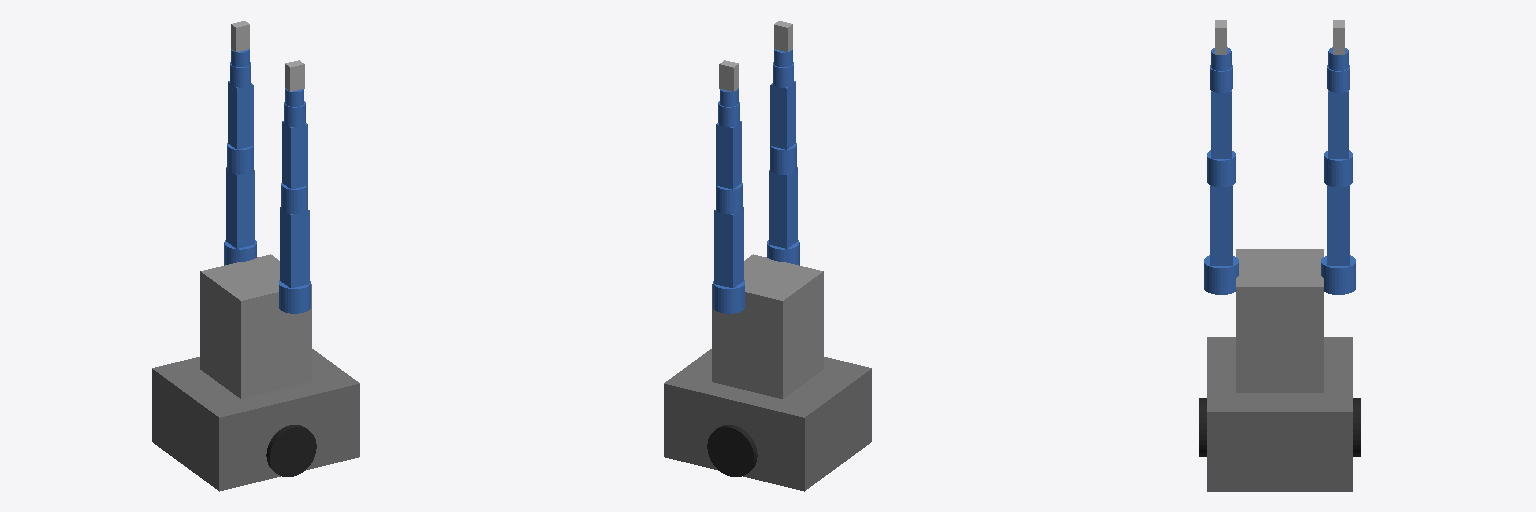
The robot description file, URDF, robot "dual_arm_robot":
<?xml version="1.0"?>
<!--
  Simplified Dual-Arm Mobile Manipulator
  Educational/Research Platform for RL/IL Pick-and-Place Tasks

  Architecture:
  - Mobile base (differential drive, 2 wheels)
  - Torso with vertical prismatic joint
  - Left arm: 7-DOF (shoulder: 3, elbow: 1, wrist: 3)
  - Right arm: 7-DOF (mirrored)
  - Parallel grippers on both arms
-->
<robot name="dual_arm_robot">

  <!-- ============ BASE LINK ============ -->
  <link name="base_link">
    <inertial>
      <origin xyz="0 0 0.15" rpy="0 0 0"/>
      <mass value="50.0"/>
      <inertia ixx="2.0" ixy="0" ixz="0" iyy="2.5" iyz="0" izz="2.0"/>
    </inertial>
    <visual>
      <origin xyz="0 0 0.15" rpy="0 0 0"/>
      <geometry>
        <box size="0.6 0.5 0.3"/>
      </geometry>
      <material name="base_grey">
        <color rgba="0.5 0.5 0.5 1"/>
      </material>
    </visual>
    <collision>
      <origin xyz="0 0 0.15" rpy="0 0 0"/>
      <geometry>
        <box size="0.6 0.5 0.3"/>
      </geometry>
    </collision>
  </link>

  <!-- ============ WHEELS ============ -->
  <joint name="left_wheel_joint" type="continuous">
    <parent link="base_link"/>
    <child link="left_wheel"/>
    <origin xyz="0 0.25 0.1" rpy="-1.5708 0 0"/>
    <axis xyz="0 0 1"/>
  </joint>

  <link name="left_wheel">
    <inertial>
      <mass value="2.0"/>
      <inertia ixx="0.01" ixy="0" ixz="0" iyy="0.01" iyz="0" izz="0.02"/>
    </inertial>
    <visual>
      <geometry>
        <cylinder radius="0.1" length="0.05"/>
      </geometry>
      <material name="wheel_black">
        <color rgba="0.2 0.2 0.2 1"/>
      </material>
    </visual>
    <collision>
      <geometry>
        <cylinder radius="0.1" length="0.05"/>
      </geometry>
    </collision>
  </link>

  <joint name="right_wheel_joint" type="continuous">
    <parent link="base_link"/>
    <child link="right_wheel"/>
    <origin xyz="0 -0.25 0.1" rpy="-1.5708 0 0"/>
    <axis xyz="0 0 1"/>
  </joint>

  <link name="right_wheel">
    <inertial>
      <mass value="2.0"/>
      <inertia ixx="0.01" ixy="0" ixz="0" iyy="0.01" iyz="0" izz="0.02"/>
    </inertial>
    <visual>
      <geometry>
        <cylinder radius="0.1" length="0.05"/>
      </geometry>
      <material name="wheel_black">
        <color rgba="0.2 0.2 0.2 1"/>
      </material>
    </visual>
    <collision>
      <geometry>
        <cylinder radius="0.1" length="0.05"/>
      </geometry>
    </collision>
  </link>

  <!-- ============ TORSO (Prismatic Lift) ============ -->
  <joint name="torso_lift_joint" type="prismatic">
    <parent link="base_link"/>
    <child link="torso_link"/>
    <origin xyz="0 0 0.3" rpy="0 0 0"/>
    <axis xyz="0 0 1"/>
    <limit lower="0.0" upper="0.3" effort="100" velocity="0.1"/>
    <dynamics damping="2.0" friction="0.2"/>
  </joint>

  <link name="torso_link">
    <inertial>
      <origin xyz="0 0 0.2" rpy="0 0 0"/>
      <mass value="15.0"/>
      <inertia ixx="0.5" ixy="0" ixz="0" iyy="0.5" iyz="0" izz="0.2"/>
    </inertial>
    <visual>
      <origin xyz="0 0 0.2" rpy="0 0 0"/>
      <geometry>
        <box size="0.3 0.3 0.4"/>
      </geometry>
      <material name="torso_grey">
        <color rgba="0.6 0.6 0.6 1"/>
      </material>
    </visual>
    <collision>
      <origin xyz="0 0 0.2" rpy="0 0 0"/>
      <geometry>
        <box size="0.3 0.3 0.4"/>
      </geometry>
    </collision>
  </link>

  <!-- ============ LEFT ARM (7-DOF) ============ -->
  <!-- Shoulder Pan -->
  <joint name="left_joint1" type="revolute">
    <parent link="torso_link"/>
    <child link="left_link1"/>
    <origin xyz="0.05 0.2 0.35" rpy="0 0 0"/>
    <axis xyz="0 0 1"/>
    <limit lower="-2.8" upper="2.8" effort="50" velocity="1.5"/>
    <dynamics damping="1.0" friction="0.1"/>
  </joint>

  <link name="left_link1">
    <inertial>
      <mass value="3.0"/>
      <inertia ixx="0.01" ixy="0" ixz="0" iyy="0.01" iyz="0" izz="0.01"/>
    </inertial>
    <visual>
      <origin xyz="0 0 0.05" rpy="0 0 0"/>
      <geometry>
        <cylinder radius="0.06" length="0.1"/>
      </geometry>
      <material name="arm_blue">
        <color rgba="0.3 0.5 0.8 1"/>
      </material>
    </visual>
    <collision>
      <origin xyz="0 0 0.05" rpy="0 0 0"/>
      <geometry>
        <cylinder radius="0.06" length="0.1"/>
      </geometry>
    </collision>
  </link>

  <!-- Shoulder Lift -->
  <joint name="left_joint2" type="revolute">
    <parent link="left_link1"/>
    <child link="left_link2"/>
    <origin xyz="0 0 0.1" rpy="0 0 0"/>
    <axis xyz="0 1 0"/>
    <limit lower="-1.5" upper="1.5" effort="50" velocity="1.5"/>
    <dynamics damping="1.0" friction="0.1"/>
  </joint>

  <link name="left_link2">
    <inertial>
      <origin xyz="0 0 0.15" rpy="0 0 0"/>
      <mass value="2.5"/>
      <inertia ixx="0.05" ixy="0" ixz="0" iyy="0.05" iyz="0" izz="0.005"/>
    </inertial>
    <visual>
      <origin xyz="0 0 0.15" rpy="0 0 0"/>
      <geometry>
        <box size="0.08 0.08 0.3"/>
      </geometry>
      <material name="arm_blue"/>
    </visual>
    <collision>
      <origin xyz="0 0 0.15" rpy="0 0 0"/>
      <geometry>
        <box size="0.08 0.08 0.3"/>
      </geometry>
    </collision>
  </link>

  <!-- Shoulder Roll -->
  <joint name="left_joint3" type="revolute">
    <parent link="left_link2"/>
    <child link="left_link3"/>
    <origin xyz="0 0 0.3" rpy="0 0 0"/>
    <axis xyz="1 0 0"/>
    <limit lower="-2.8" upper="2.8" effort="30" velocity="1.5"/>
    <dynamics damping="1.0" friction="0.1"/>
  </joint>

  <link name="left_link3">
    <inertial>
      <mass value="1.5"/>
      <inertia ixx="0.005" ixy="0" ixz="0" iyy="0.005" iyz="0" izz="0.005"/>
    </inertial>
    <visual>
      <origin xyz="0 0 0.05" rpy="0 0 0"/>
      <geometry>
        <cylinder radius="0.05" length="0.1"/>
      </geometry>
      <material name="arm_blue"/>
    </visual>
    <collision>
      <origin xyz="0 0 0.05" rpy="0 0 0"/>
      <geometry>
        <cylinder radius="0.05" length="0.1"/>
      </geometry>
    </collision>
  </link>

  <!-- Elbow -->
  <joint name="left_joint4" type="revolute">
    <parent link="left_link3"/>
    <child link="left_link4"/>
    <origin xyz="0 0 0.1" rpy="0 0 0"/>
    <axis xyz="0 1 0"/>
    <limit lower="-2.5" upper="0" effort="30" velocity="1.5"/>
    <dynamics damping="1.0" friction="0.1"/>
  </joint>

  <link name="left_link4">
    <inertial>
      <origin xyz="0 0 0.125" rpy="0 0 0"/>
      <mass value="2.0"/>
      <inertia ixx="0.03" ixy="0" ixz="0" iyy="0.03" iyz="0" izz="0.003"/>
    </inertial>
    <visual>
      <origin xyz="0 0 0.125" rpy="0 0 0"/>
      <geometry>
        <box size="0.07 0.07 0.25"/>
      </geometry>
      <material name="arm_blue"/>
    </visual>
    <collision>
      <origin xyz="0 0 0.125" rpy="0 0 0"/>
      <geometry>
        <box size="0.07 0.07 0.25"/>
      </geometry>
    </collision>
  </link>

  <!-- Wrist Yaw -->
  <joint name="left_joint5" type="revolute">
    <parent link="left_link4"/>
    <child link="left_link5"/>
    <origin xyz="0 0 0.25" rpy="0 0 0"/>
    <axis xyz="0 0 1"/>
    <limit lower="-2.8" upper="2.8" effort="10" velocity="2.0"/>
    <dynamics damping="0.5" friction="0.05"/>
  </joint>

  <link name="left_link5">
    <inertial>
      <mass value="0.8"/>
      <inertia ixx="0.002" ixy="0" ixz="0" iyy="0.002" iyz="0" izz="0.002"/>
    </inertial>
    <visual>
      <origin xyz="0 0 0.04" rpy="0 0 0"/>
      <geometry>
        <cylinder radius="0.04" length="0.08"/>
      </geometry>
      <material name="arm_blue"/>
    </visual>
    <collision>
      <origin xyz="0 0 0.04" rpy="0 0 0"/>
      <geometry>
        <cylinder radius="0.04" length="0.08"/>
      </geometry>
    </collision>
  </link>

  <!-- Wrist Pitch -->
  <joint name="left_joint6" type="revolute">
    <parent link="left_link5"/>
    <child link="left_link6"/>
    <origin xyz="0 0 0.08" rpy="0 0 0"/>
    <axis xyz="0 1 0"/>
    <limit lower="-1.5" upper="1.5" effort="10" velocity="2.0"/>
    <dynamics damping="0.5" friction="0.05"/>
  </joint>

  <link name="left_link6">
    <inertial>
      <mass value="0.6"/>
      <inertia ixx="0.001" ixy="0" ixz="0" iyy="0.001" iyz="0" izz="0.001"/>
    </inertial>
    <visual>
      <origin xyz="0 0 0.03" rpy="0 0 0"/>
      <geometry>
        <cylinder radius="0.035" length="0.06"/>
      </geometry>
      <material name="arm_blue"/>
    </visual>
    <collision>
      <origin xyz="0 0 0.03" rpy="0 0 0"/>
      <geometry>
        <cylinder radius="0.035" length="0.06"/>
      </geometry>
    </collision>
  </link>

  <!-- Wrist Roll -->
  <joint name="left_joint7" type="revolute">
    <parent link="left_link6"/>
    <child link="left_link7"/>
    <origin xyz="0 0 0.06" rpy="0 0 0"/>
    <axis xyz="1 0 0"/>
    <limit lower="-2.8" upper="2.8" effort="10" velocity="2.0"/>
    <dynamics damping="0.5" friction="0.05"/>
  </joint>

  <link name="left_link7">
    <inertial>
      <origin xyz="0 0 0.05" rpy="0 0 0"/>
      <mass value="0.4"/>
      <inertia ixx="0.0005" ixy="0" ixz="0" iyy="0.0005" iyz="0" izz="0.0003"/>
    </inertial>
    <visual>
      <origin xyz="0 0 0.05" rpy="0 0 0"/>
      <geometry>
        <box size="0.06 0.04 0.1"/>
      </geometry>
      <material name="gripper_grey">
        <color rgba="0.7 0.7 0.7 1"/>
      </material>
    </visual>
    <collision>
      <origin xyz="0 0 0.05" rpy="0 0 0"/>
      <geometry>
        <box size="0.06 0.04 0.1"/>
      </geometry>
    </collision>
  </link>

  <!-- ============ RIGHT ARM (7-DOF, mirrored) ============ -->
  <joint name="right_joint1" type="revolute">
    <parent link="torso_link"/>
    <child link="right_link1"/>
    <origin xyz="0.05 -0.2 0.35" rpy="0 0 0"/>
    <axis xyz="0 0 1"/>
    <limit lower="-2.8" upper="2.8" effort="50" velocity="1.5"/>
    <dynamics damping="1.0" friction="0.1"/>
  </joint>

  <link name="right_link1">
    <inertial>
      <mass value="3.0"/>
      <inertia ixx="0.01" ixy="0" ixz="0" iyy="0.01" iyz="0" izz="0.01"/>
    </inertial>
    <visual>
      <origin xyz="0 0 0.05" rpy="0 0 0"/>
      <geometry>
        <cylinder radius="0.06" length="0.1"/>
      </geometry>
      <material name="arm_blue"/>
    </visual>
    <collision>
      <origin xyz="0 0 0.05" rpy="0 0 0"/>
      <geometry>
        <cylinder radius="0.06" length="0.1"/>
      </geometry>
    </collision>
  </link>

  <joint name="right_joint2" type="revolute">
    <parent link="right_link1"/>
    <child link="right_link2"/>
    <origin xyz="0 0 0.1" rpy="0 0 0"/>
    <axis xyz="0 1 0"/>
    <limit lower="-1.5" upper="1.5" effort="50" velocity="1.5"/>
    <dynamics damping="1.0" friction="0.1"/>
  </joint>

  <link name="right_link2">
    <inertial>
      <origin xyz="0 0 0.15" rpy="0 0 0"/>
      <mass value="2.5"/>
      <inertia ixx="0.05" ixy="0" ixz="0" iyy="0.05" iyz="0" izz="0.005"/>
    </inertial>
    <visual>
      <origin xyz="0 0 0.15" rpy="0 0 0"/>
      <geometry>
        <box size="0.08 0.08 0.3"/>
      </geometry>
      <material name="arm_blue"/>
    </visual>
    <collision>
      <origin xyz="0 0 0.15" rpy="0 0 0"/>
      <geometry>
        <box size="0.08 0.08 0.3"/>
      </geometry>
    </collision>
  </link>

  <joint name="right_joint3" type="revolute">
    <parent link="right_link2"/>
    <child link="right_link3"/>
    <origin xyz="0 0 0.3" rpy="0 0 0"/>
    <axis xyz="1 0 0"/>
    <limit lower="-2.8" upper="2.8" effort="30" velocity="1.5"/>
    <dynamics damping="1.0" friction="0.1"/>
  </joint>

  <link name="right_link3">
    <inertial>
      <mass value="1.5"/>
      <inertia ixx="0.005" ixy="0" ixz="0" iyy="0.005" iyz="0" izz="0.005"/>
    </inertial>
    <visual>
      <origin xyz="0 0 0.05" rpy="0 0 0"/>
      <geometry>
        <cylinder radius="0.05" length="0.1"/>
      </geometry>
      <material name="arm_blue"/>
    </visual>
    <collision>
      <origin xyz="0 0 0.05" rpy="0 0 0"/>
      <geometry>
        <cylinder radius="0.05" length="0.1"/>
      </geometry>
    </collision>
  </link>

  <joint name="right_joint4" type="revolute">
    <parent link="right_link3"/>
    <child link="right_link4"/>
    <origin xyz="0 0 0.1" rpy="0 0 0"/>
    <axis xyz="0 1 0"/>
    <limit lower="-2.5" upper="0" effort="30" velocity="1.5"/>
    <dynamics damping="1.0" friction="0.1"/>
  </joint>

  <link name="right_link4">
    <inertial>
      <origin xyz="0 0 0.125" rpy="0 0 0"/>
      <mass value="2.0"/>
      <inertia ixx="0.03" ixy="0" ixz="0" iyy="0.03" iyz="0" izz="0.003"/>
    </inertial>
    <visual>
      <origin xyz="0 0 0.125" rpy="0 0 0"/>
      <geometry>
        <box size="0.07 0.07 0.25"/>
      </geometry>
      <material name="arm_blue"/>
    </visual>
    <collision>
      <origin xyz="0 0 0.125" rpy="0 0 0"/>
      <geometry>
        <box size="0.07 0.07 0.25"/>
      </geometry>
    </collision>
  </link>

  <joint name="right_joint5" type="revolute">
    <parent link="right_link4"/>
    <child link="right_link5"/>
    <origin xyz="0 0 0.25" rpy="0 0 0"/>
    <axis xyz="0 0 1"/>
    <limit lower="-2.8" upper="2.8" effort="10" velocity="2.0"/>
    <dynamics damping="0.5" friction="0.05"/>
  </joint>

  <link name="right_link5">
    <inertial>
      <mass value="0.8"/>
      <inertia ixx="0.002" ixy="0" ixz="0" iyy="0.002" iyz="0" izz="0.002"/>
    </inertial>
    <visual>
      <origin xyz="0 0 0.04" rpy="0 0 0"/>
      <geometry>
        <cylinder radius="0.04" length="0.08"/>
      </geometry>
      <material name="arm_blue"/>
    </visual>
    <collision>
      <origin xyz="0 0 0.04" rpy="0 0 0"/>
      <geometry>
        <cylinder radius="0.04" length="0.08"/>
      </geometry>
    </collision>
  </link>

  <joint name="right_joint6" type="revolute">
    <parent link="right_link5"/>
    <child link="right_link6"/>
    <origin xyz="0 0 0.08" rpy="0 0 0"/>
    <axis xyz="0 1 0"/>
    <limit lower="-1.5" upper="1.5" effort="10" velocity="2.0"/>
    <dynamics damping="0.5" friction="0.05"/>
  </joint>

  <link name="right_link6">
    <inertial>
      <mass value="0.6"/>
      <inertia ixx="0.001" ixy="0" ixz="0" iyy="0.001" iyz="0" izz="0.001"/>
    </inertial>
    <visual>
      <origin xyz="0 0 0.03" rpy="0 0 0"/>
      <geometry>
        <cylinder radius="0.035" length="0.06"/>
      </geometry>
      <material name="arm_blue"/>
    </visual>
    <collision>
      <origin xyz="0 0 0.03" rpy="0 0 0"/>
      <geometry>
        <cylinder radius="0.035" length="0.06"/>
      </geometry>
    </collision>
  </link>

  <joint name="right_joint7" type="revolute">
    <parent link="right_link6"/>
    <child link="right_link7"/>
    <origin xyz="0 0 0.06" rpy="0 0 0"/>
    <axis xyz="1 0 0"/>
    <limit lower="-2.8" upper="2.8" effort="10" velocity="2.0"/>
    <dynamics damping="0.5" friction="0.05"/>
  </joint>

  <link name="right_link7">
    <inertial>
      <origin xyz="0 0 0.05" rpy="0 0 0"/>
      <mass value="0.4"/>
      <inertia ixx="0.0005" ixy="0" ixz="0" iyy="0.0005" iyz="0" izz="0.0003"/>
    </inertial>
    <visual>
      <origin xyz="0 0 0.05" rpy="0 0 0"/>
      <geometry>
        <box size="0.06 0.04 0.1"/>
      </geometry>
      <material name="gripper_grey"/>
    </visual>
    <collision>
      <origin xyz="0 0 0.05" rpy="0 0 0"/>
      <geometry>
        <box size="0.06 0.04 0.1"/>
      </geometry>
    </collision>
  </link>

</robot>

--- What the picture shows (computed from the rendered views, not written in the file) ---
The picture shows the robot from 3 angles, left to right: view 1: azimuth 30°, elevation 25°; view 2: azimuth 150°, elevation 25°; view 3: azimuth 270°, elevation 25°; orthographic projection.
Model dual_arm_robot with 18 links and 17 joints (14 revolute, 2 continuous, 1 prismatic), rooted at base_link, posed every joint at zero.
Visible links, largest first — view 1: base_link, torso_link, right_link2, left_link2, right_wheel, right_link4, left_link4, right_link1, left_link3, right_link3, right_link7, left_link1 (+1 smaller); view 2: base_link, torso_link, left_link2, right_link2, left_wheel, left_link4, right_link4, left_link1, right_link3, left_link3, left_link7, right_link1 (+1 smaller); view 3: base_link, torso_link, left_link2, right_link2, left_link4, right_link4, left_link1, right_link1, left_link3, right_link3.
Boxes of the visible links, <box> form: base_link: <box>152,349,359,491</box>; torso_link: <box>200,254,311,398</box>; right_link2: <box>280,207,309,287</box>; left_link2: <box>226,167,254,248</box>; right_wheel: <box>266,425,316,476</box>; right_link4: <box>282,121,307,189</box>; left_link4: <box>228,81,253,149</box>; right_link1: <box>279,280,310,313</box>; left_link3: <box>227,143,253,174</box>; right_link3: <box>281,183,307,213</box>; right_link7: <box>285,60,304,91</box>; left_link1: <box>224,240,256,265</box>; base_link: <box>664,349,871,491</box>; torso_link: <box>712,254,823,398</box>; left_link2: <box>714,207,743,287</box>; right_link2: <box>769,167,797,248</box>; left_wheel: <box>707,425,757,476</box>; left_link4: <box>716,121,741,189</box>; right_link4: <box>770,81,795,149</box>; left_link1: <box>713,280,744,313</box>; right_link3: <box>770,143,796,174</box>; left_link3: <box>716,183,742,213</box>; left_link7: <box>719,60,738,91</box>; right_link1: <box>767,240,799,265</box>; base_link: <box>1207,337,1352,491</box>; torso_link: <box>1236,249,1323,392</box>; left_link2: <box>1327,185,1349,265</box>; right_link2: <box>1210,185,1232,265</box>; left_link4: <box>1328,90,1348,158</box>; right_link4: <box>1211,90,1231,158</box>; left_link1: <box>1321,255,1355,294</box>; right_link1: <box>1204,255,1238,294</box>; left_link3: <box>1324,150,1352,186</box>; right_link3: <box>1207,150,1235,186</box>.
Bounding box of the posed robot: 0.6 × 0.55 × 1.64 m (x, y, z).
Geometry: primitives only (box / cylinder / sphere), no mesh files.
